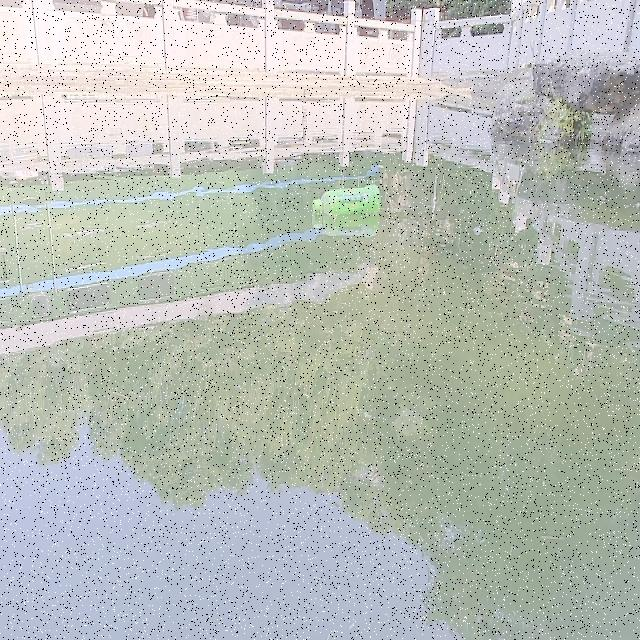bottle: (311, 183, 382, 216)
